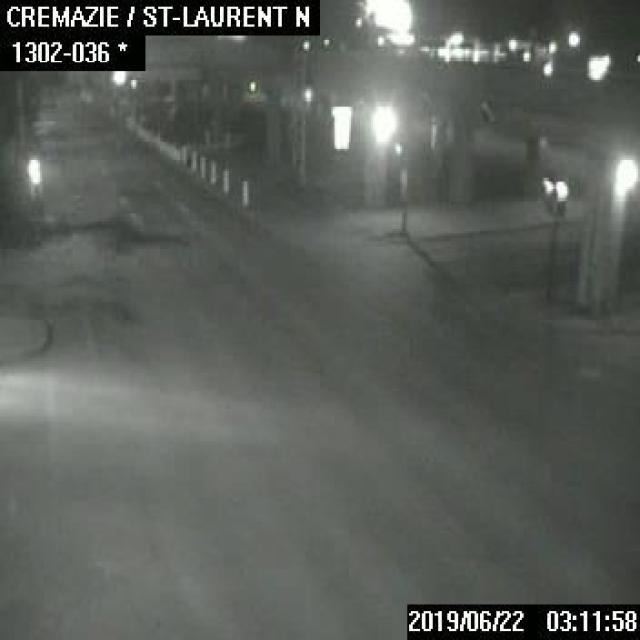construction: (240, 174, 249, 204), (222, 165, 231, 193), (179, 141, 187, 164), (199, 154, 207, 175), (189, 151, 197, 171), (209, 160, 216, 180)
